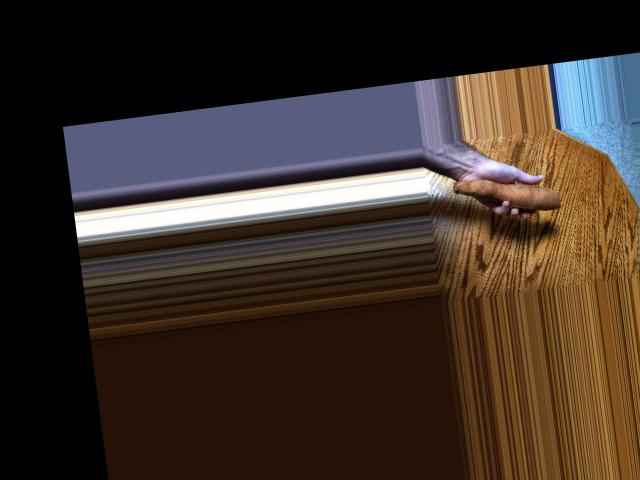sweet_potato: (441, 168, 563, 227)
